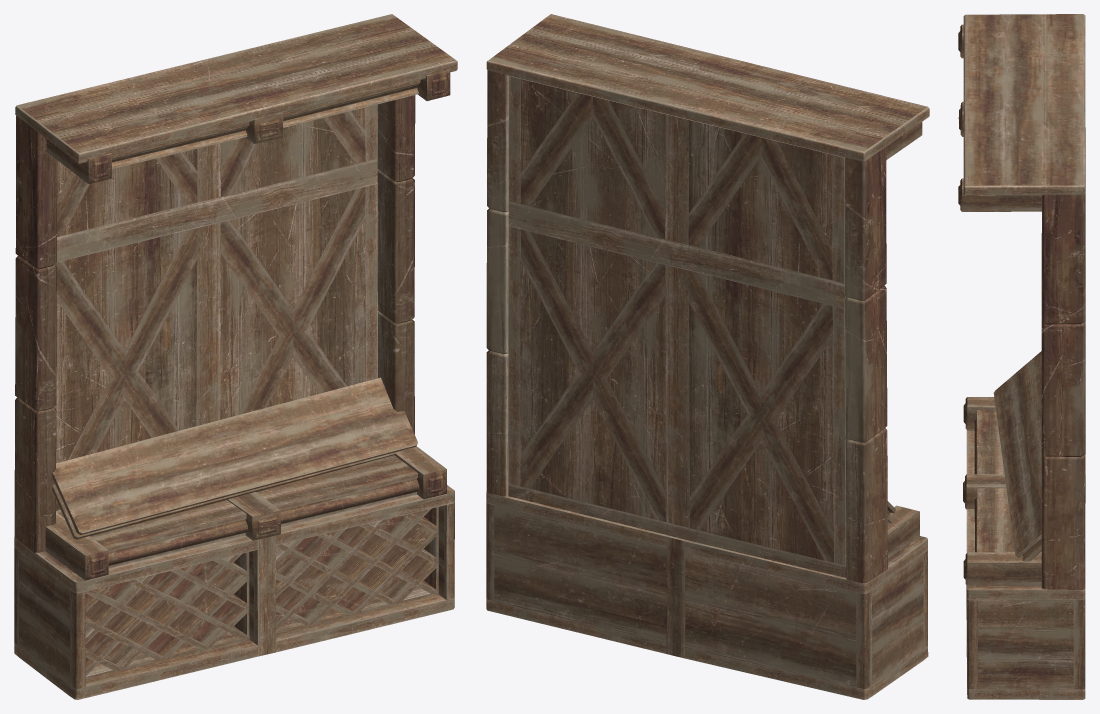
3 views of the same model, side by side, from view 1: azimuth 30°, elevation 25°; view 2: azimuth 150°, elevation 25°; view 3: azimuth 270°, elevation 25° (orthographic). The views are drawn at different scales.
Visible parts, largest first — view 1: SM_DR_Bookshelf_08_LOD0; view 2: SM_DR_Bookshelf_08_LOD0; view 3: SM_DR_Bookshelf_08_LOD0.
Boxes of the visible parts, x1,y1,x2,y2 form: SM_DR_Bookshelf_08_LOD0: (14,14,457,699); SM_DR_Bookshelf_08_LOD0: (486,14,929,699); SM_DR_Bookshelf_08_LOD0: (958,14,1085,699).
Size of the model in its own units: 2.43 by 3.35 by 0.7528.
1 material, 1 textured.
